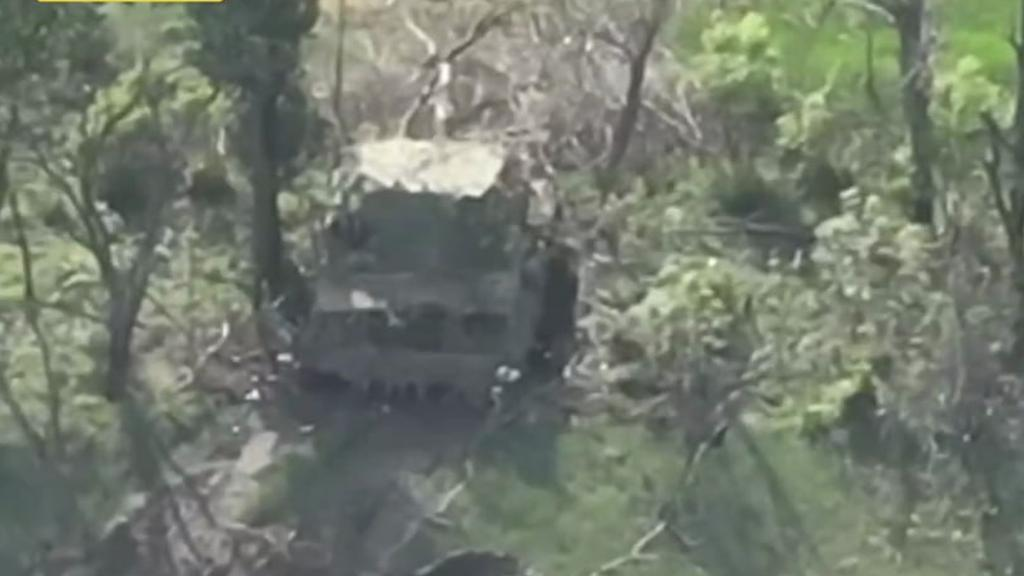TANK: (294, 49, 551, 408)
